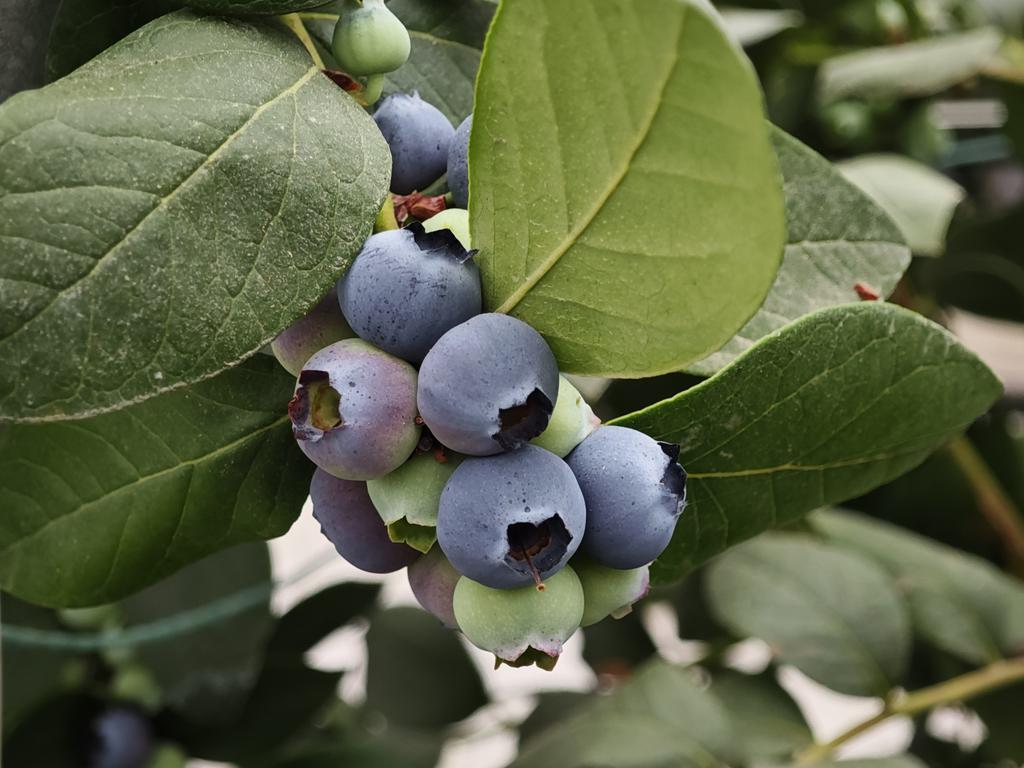RipeBlueBerry: (441, 449, 586, 590), (419, 317, 559, 456)
Semi-RipeBlueBerry: (290, 337, 421, 482)
